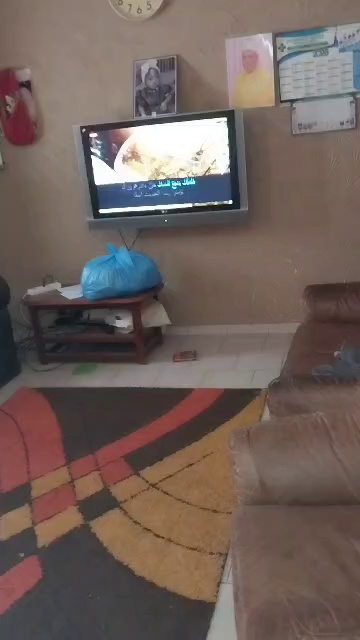television: (66, 100, 286, 244)
